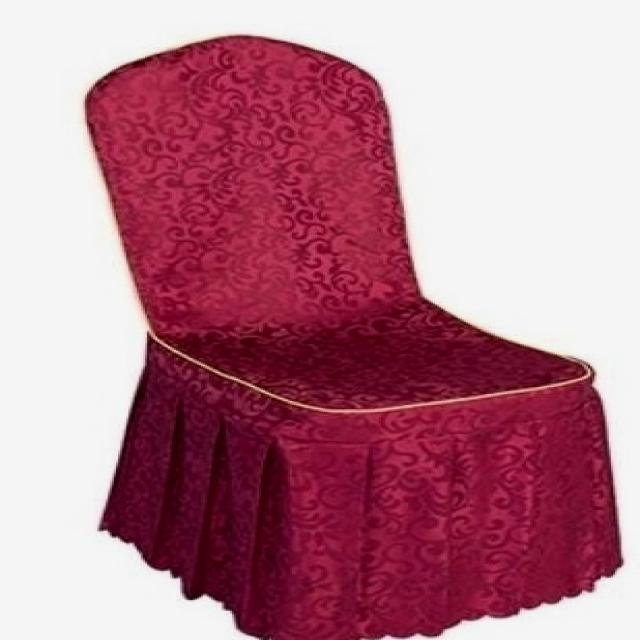Chair: (85, 35, 624, 640)
